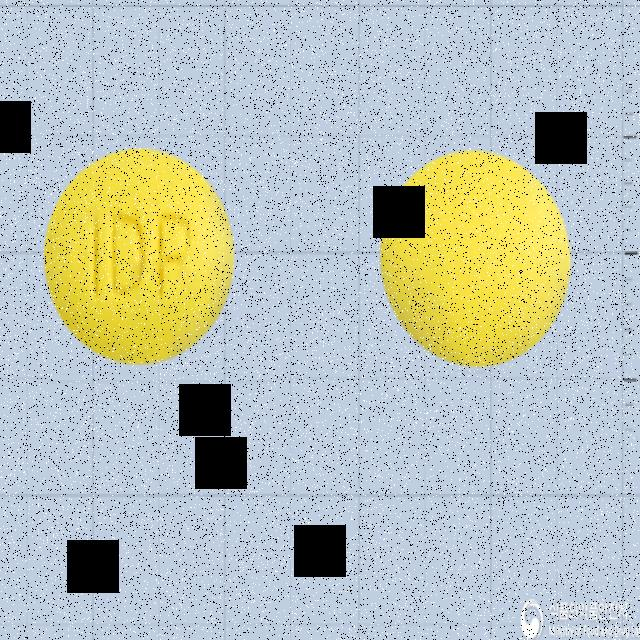Ciracle: (39, 144, 240, 368)
